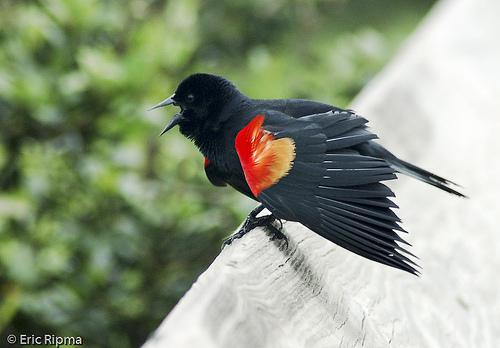010.Red_winged_Blackbird: (146, 73, 469, 279)
